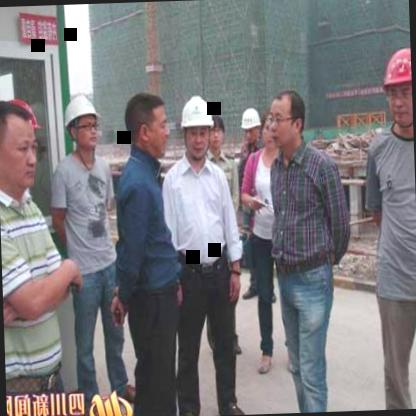helmet: (382, 45, 414, 130), (178, 93, 214, 162), (63, 93, 104, 152), (240, 106, 262, 144)
